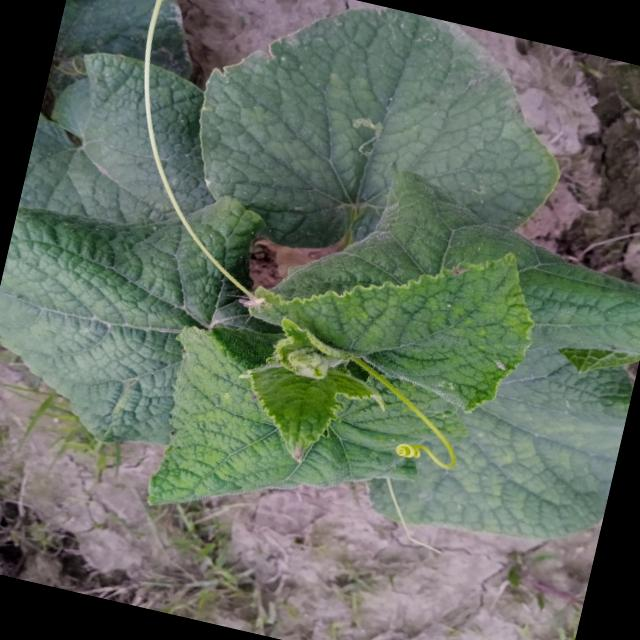cucumber_healthy: (175, 0, 595, 280), (0, 142, 266, 470), (236, 192, 554, 428), (219, 342, 392, 482)
